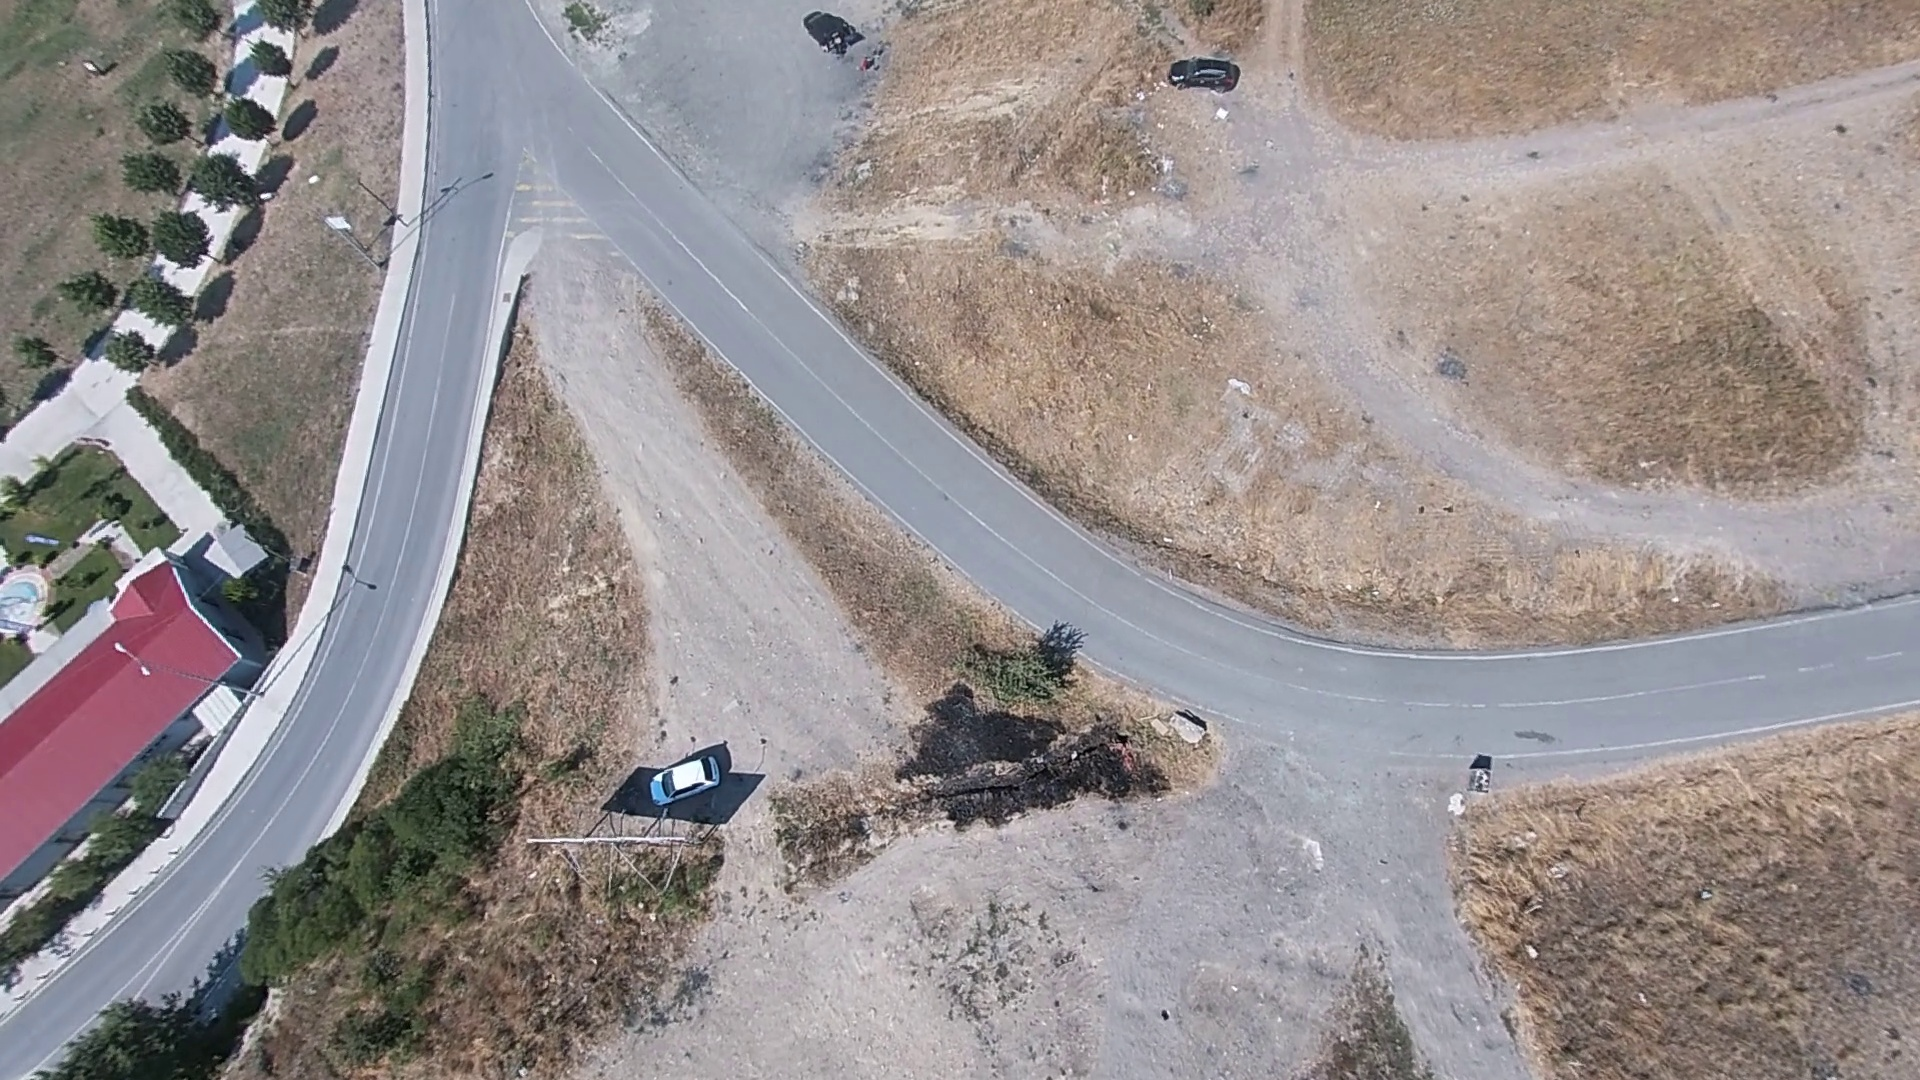araba: (640, 746, 731, 808), (796, 3, 860, 57), (1164, 54, 1238, 95)
